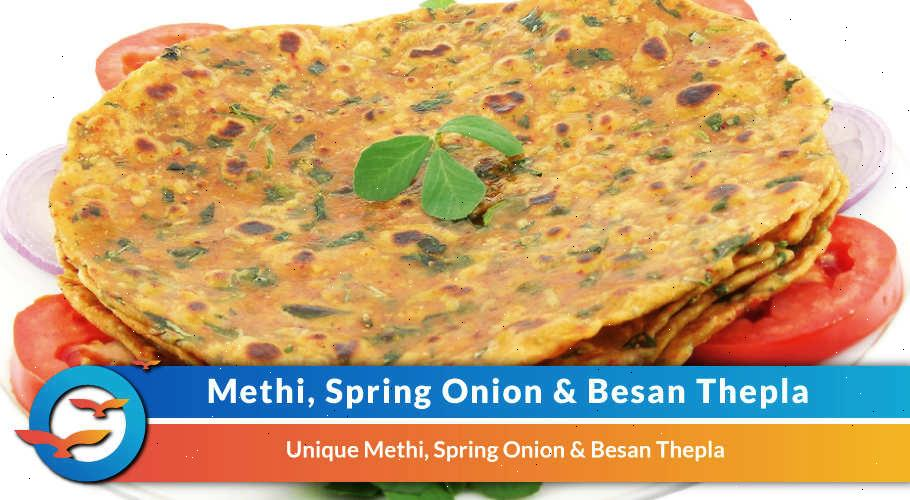thepla: (90, 20, 798, 338)
